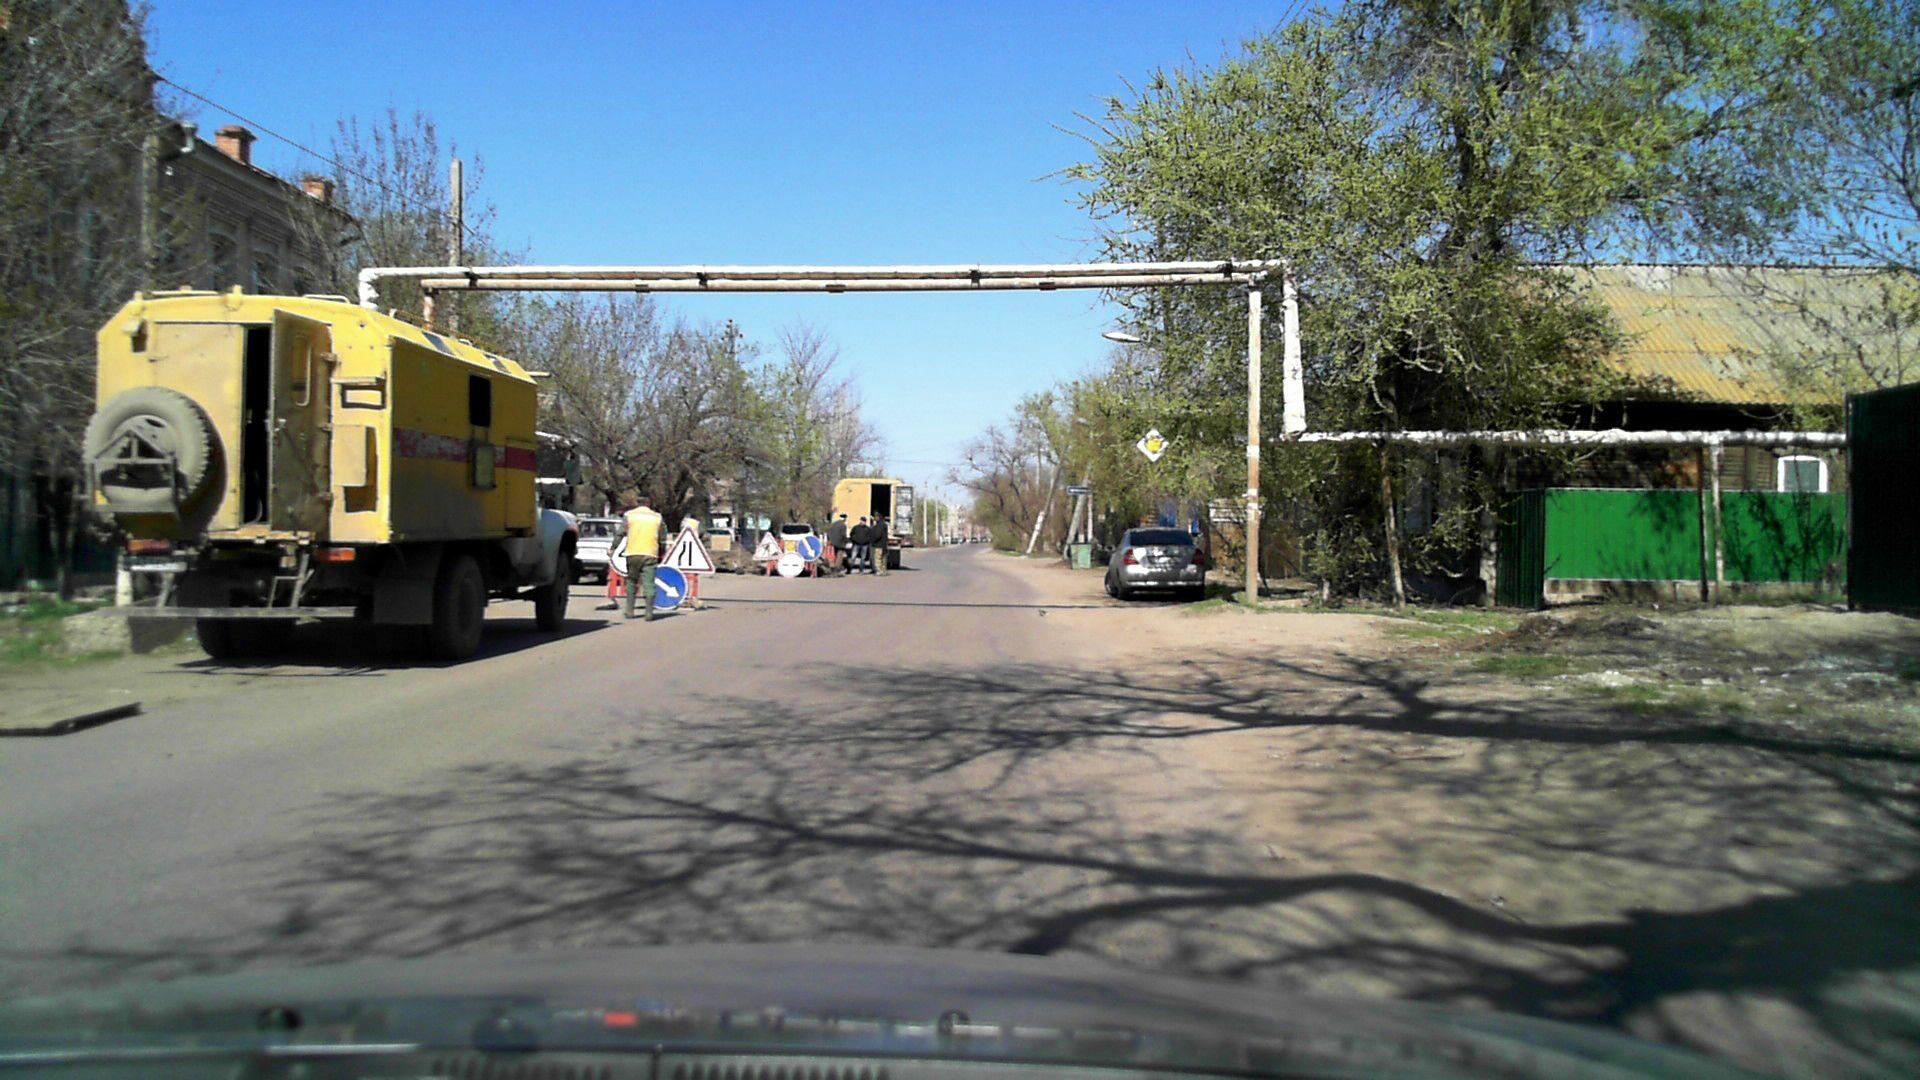1_20_3: (661, 527, 715, 571)
1_25: (752, 533, 782, 563)
2_1: (1137, 429, 1170, 458)
3_20: (773, 549, 804, 579)
4_2_1: (644, 563, 686, 608), (796, 534, 820, 560)
5_7_2: (1065, 485, 1091, 496)
